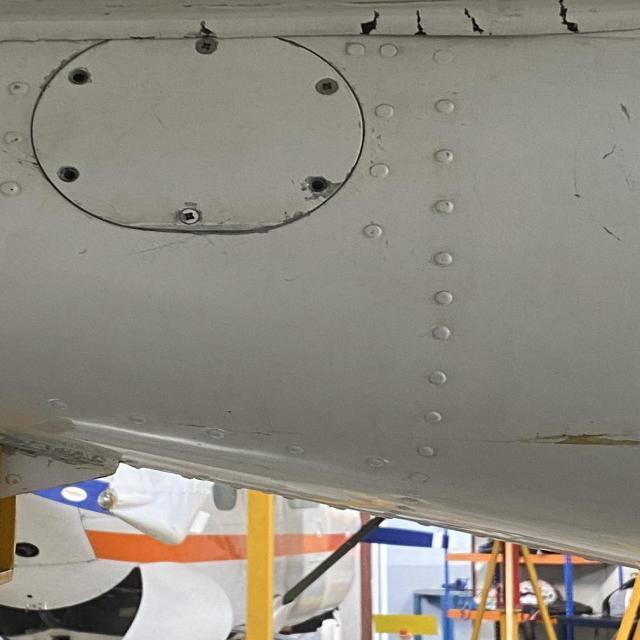Missing-head: (301, 175, 333, 196), (66, 67, 90, 85), (55, 165, 79, 183)
Paint-off: (586, 138, 622, 160), (620, 94, 640, 127), (179, 201, 197, 210)
